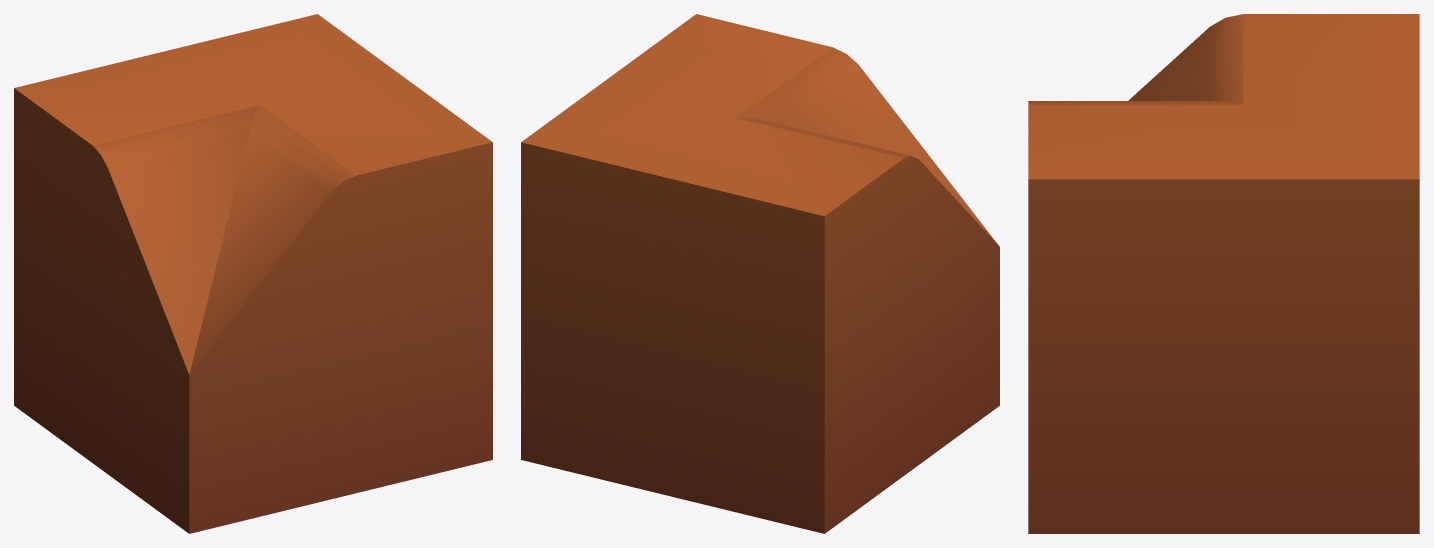
File: space-terrain-slope-inner-corner.glb
3 renders of one model, left to right at view 1: azimuth 30°, elevation 25°; view 2: azimuth 150°, elevation 25°; view 3: azimuth 270°, elevation 25°, orthographic. The views are drawn at different scales.
Visible parts, largest first — view 1: terrain_slope_inner_corner; view 2: terrain_slope_inner_corner; view 3: terrain_slope_inner_corner.
Boxes of the visible parts, bbox=[...] form: terrain_slope_inner_corner: bbox=[14, 14, 492, 533]; terrain_slope_inner_corner: bbox=[521, 14, 999, 533]; terrain_slope_inner_corner: bbox=[1028, 14, 1419, 533].
Bounding box in the file's own units: 2 × 2 × 2.
